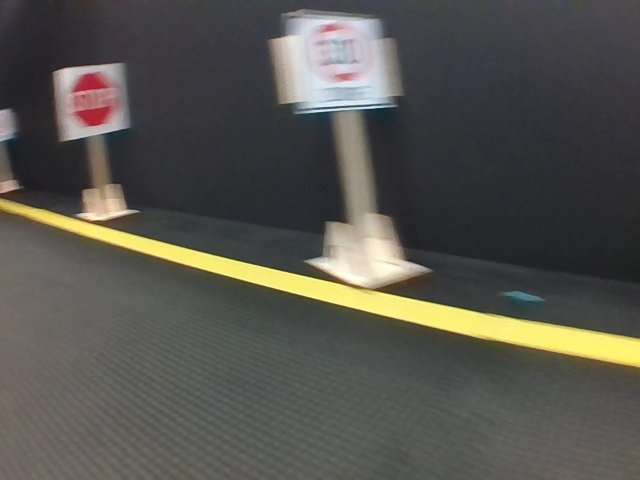30: (291, 13, 391, 110)
stop: (59, 68, 125, 135)
